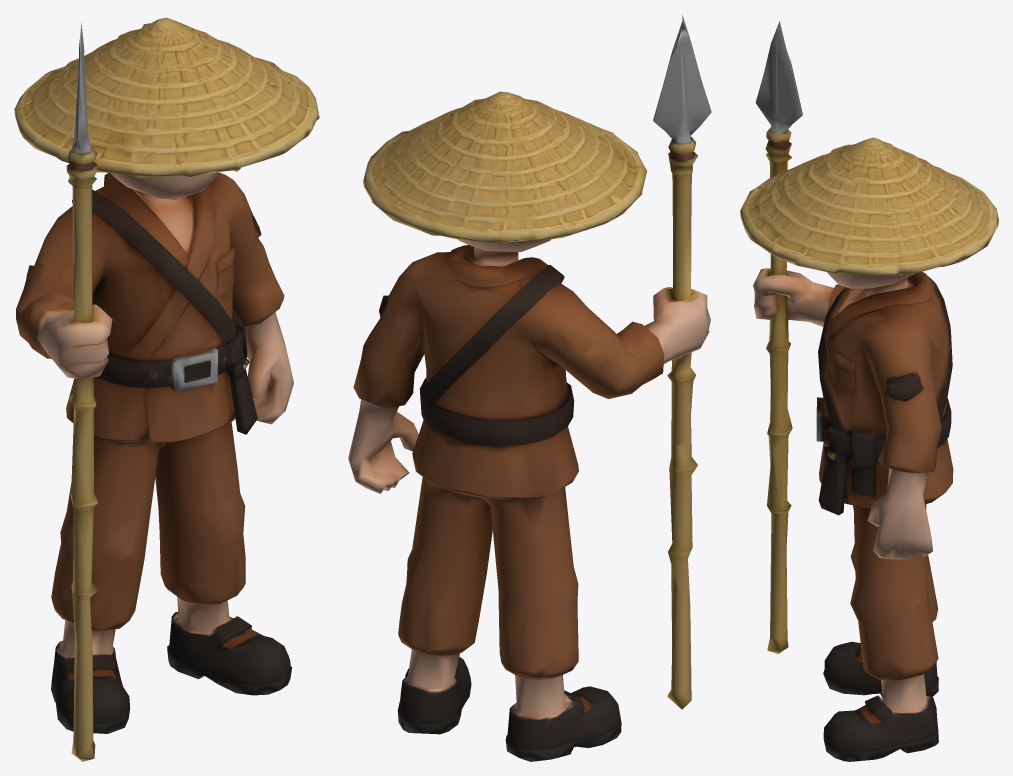
Rendered from pole.glb.
3 views of the same model, side by side, from view 1: azimuth 30°, elevation 25°; view 2: azimuth 150°, elevation 25°; view 3: azimuth 270°, elevation 25° (orthographic). The views are drawn at different scales.
Visible parts, largest first — view 1: tripo_node_d897966b-14a8-47d6-9d27-aa0e247b9965; view 2: tripo_node_d897966b-14a8-47d6-9d27-aa0e247b9965; view 3: tripo_node_d897966b-14a8-47d6-9d27-aa0e247b9965.
Part boxes in pixels (<box>): tripo_node_d897966b-14a8-47d6-9d27-aa0e247b9965: <box>14,17,319,761</box>; tripo_node_d897966b-14a8-47d6-9d27-aa0e247b9965: <box>348,15,711,761</box>; tripo_node_d897966b-14a8-47d6-9d27-aa0e247b9965: <box>740,21,998,761</box>.
Size of the model in its own units: 0.4172 by 1 by 0.3638.
Materials: 1 (1 with a texture image).
